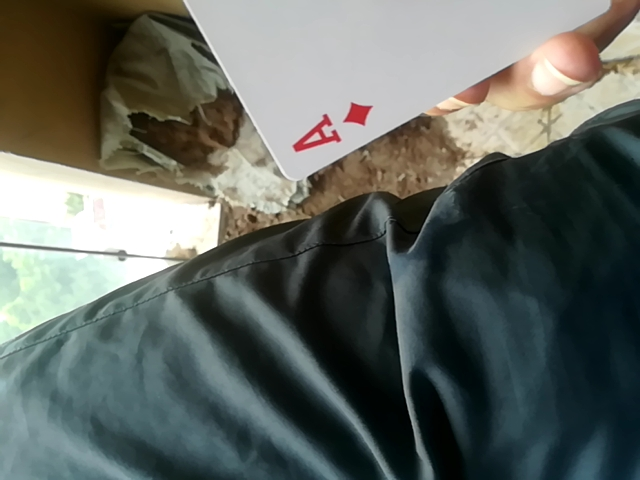fk a: (162, 1, 640, 181)
